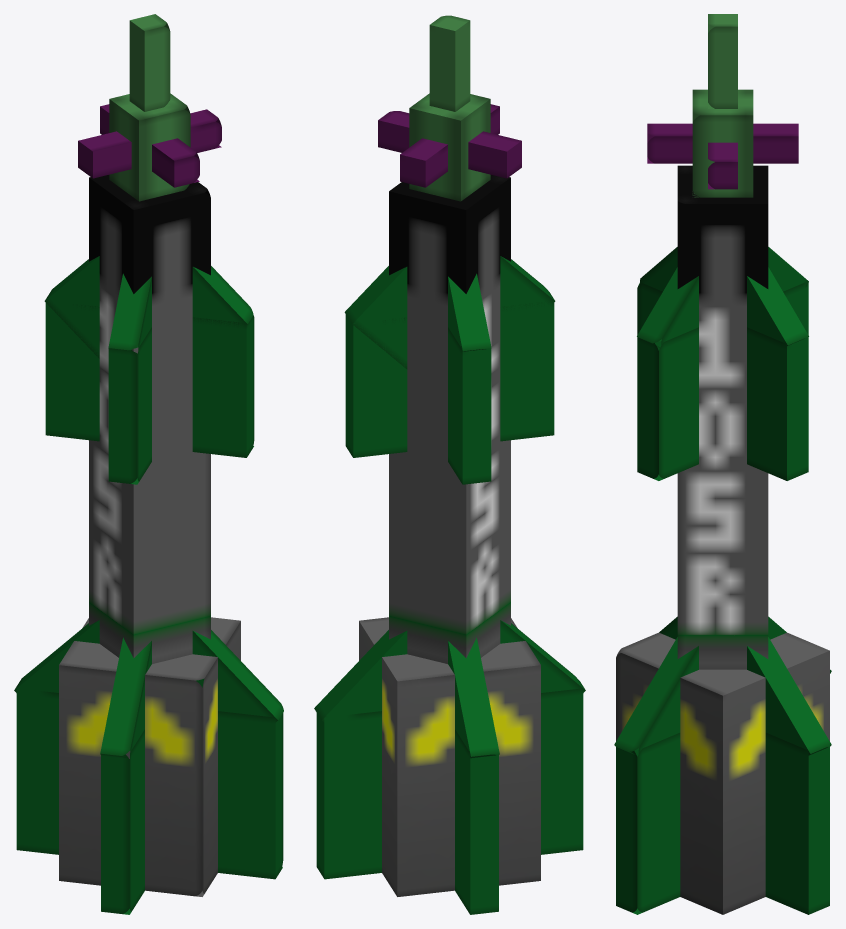
Rendered from missile_repulsion.obj.
3 renders of one model, left to right at view 1: azimuth 30°, elevation 25°; view 2: azimuth 150°, elevation 25°; view 3: azimuth 270°, elevation 25°, orthographic.
Parts seen in each view (by area): view 1: a, b, d, i, c, g, h, j, n, o, k, l (+2 smaller); view 2: a, b, c, h, f, d, i, k, n, o, j, l (+2 smaller); view 3: a, b, c, d, i, h, n, j, k, m, g, f (+2 smaller).
Boxes of the visible parts, left/top/right/bottom form: a: left=89, top=175, right=210, bottom=663; b: left=59, top=617, right=240, bottom=896; d: left=16, top=688, right=283, bottom=879; i: left=45, top=301, right=254, bottom=457; c: left=101, top=729, right=144, bottom=914; g: left=44, top=256, right=253, bottom=369; h: left=108, top=327, right=151, bottom=484; j: left=14, top=620, right=283, bottom=722; n: left=109, top=93, right=190, bottom=201; o: left=129, top=14, right=170, bottom=111; k: left=100, top=637, right=151, bottom=759; l: left=78, top=109, right=221, bottom=178; a: left=389, top=175, right=510, bottom=663; b: left=359, top=617, right=540, bottom=896; c: left=316, top=688, right=583, bottom=879; h: left=345, top=301, right=554, bottom=457; f: left=344, top=256, right=555, bottom=369; d: left=455, top=729, right=498, bottom=914; i: left=448, top=327, right=491, bottom=484; k: left=314, top=620, right=585, bottom=722; n: left=409, top=93, right=490, bottom=201; o: left=429, top=15, right=470, bottom=111; j: left=448, top=637, right=499, bottom=758; l: left=378, top=111, right=521, bottom=178; a: left=677, top=165, right=768, bottom=669; b: left=616, top=632, right=829, bottom=914; c: left=765, top=733, right=829, bottom=914; d: left=616, top=733, right=680, bottom=914; i: left=637, top=282, right=808, bottom=480; h: left=637, top=283, right=808, bottom=480; n: left=692, top=89, right=753, bottom=197; j: left=614, top=616, right=831, bottom=756; k: left=659, top=616, right=831, bottom=755; m: left=647, top=123, right=798, bottom=163; g: left=637, top=247, right=808, bottom=350; f: left=640, top=247, right=808, bottom=345.
Size of the model in its own units: 0.9009 by 3.88 by 0.9009.
